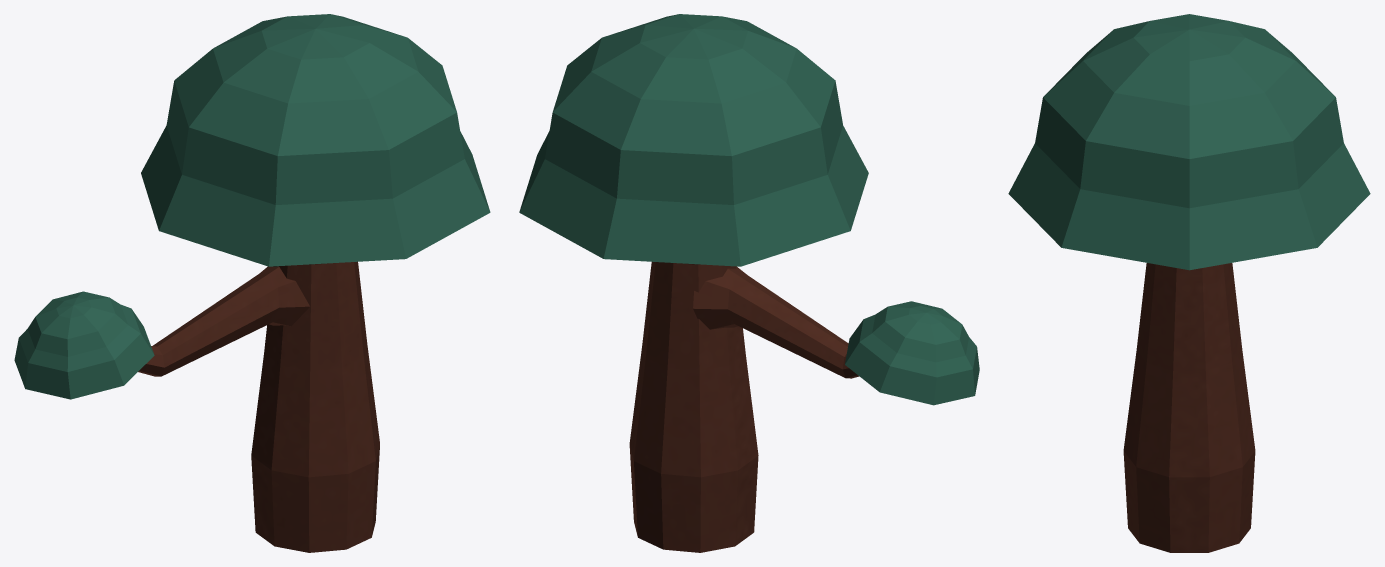
The model's file is Obstaculo_GalhoEsquerda.fbx.
3 renders of one model, left to right at view 1: azimuth 30°, elevation 25°; view 2: azimuth 150°, elevation 25°; view 3: azimuth 270°, elevation 25°, orthographic.
Parts seen in each view (by area): view 1: galho.001; view 2: galho.001; view 3: galho.001.
Part boxes in pixels (x1,y1,x2,y2): galho.001: (14,14,490,552); galho.001: (519,14,979,552); galho.001: (1008,14,1370,552).
Bounding box in the file's own units: 186 × 200 × 132.
